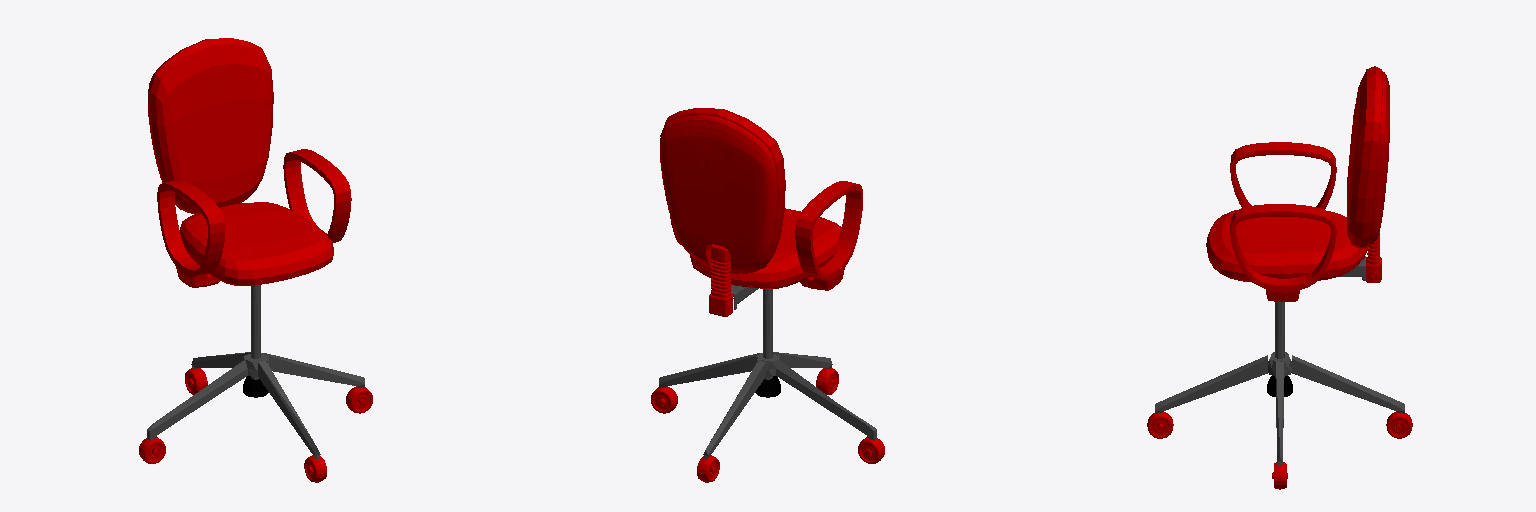
The model's file is chair-high-red.obj.
The picture shows the model from 3 angles: view 1: azimuth 30°, elevation 25°; view 2: azimuth 150°, elevation 25°; view 3: azimuth 270°, elevation 25°; orthographic projection.
Parts seen in each view (by area): view 1: chair-high_Material.033, chair-high_Material.034; view 2: chair-high_Material.033, chair-high_Material.034; view 3: chair-high_Material.033, chair-high_Material.034.
Boxes of the visible parts, x1=… form: chair-high_Material.033: x1=139, y1=38, x2=372, y2=482; chair-high_Material.034: x1=147, y1=285, x2=364, y2=459; chair-high_Material.033: x1=651, y1=108, x2=884, y2=482; chair-high_Material.034: x1=659, y1=285, x2=876, y2=459; chair-high_Material.033: x1=1147, y1=66, x2=1412, y2=489; chair-high_Material.034: x1=1155, y1=256, x2=1404, y2=465.
Size of the model in its own units: 38.33 by 57.99 by 38.33.